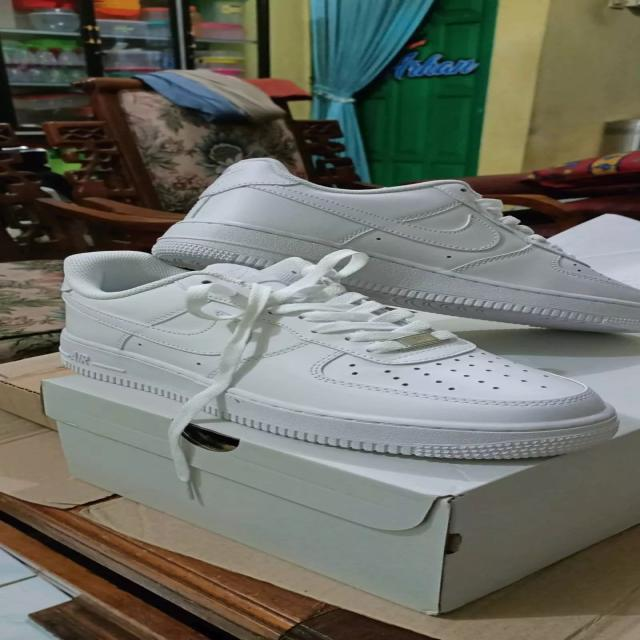nike original air force: (49, 248, 627, 464), (148, 154, 640, 332)
